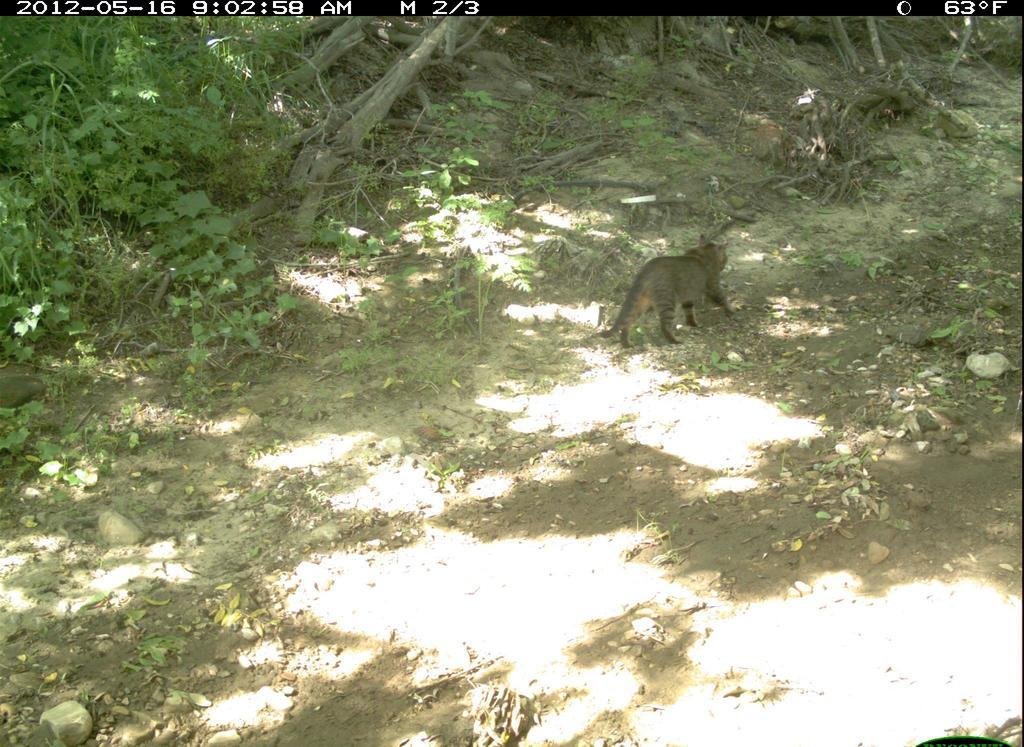cat: (596, 230, 748, 354)
